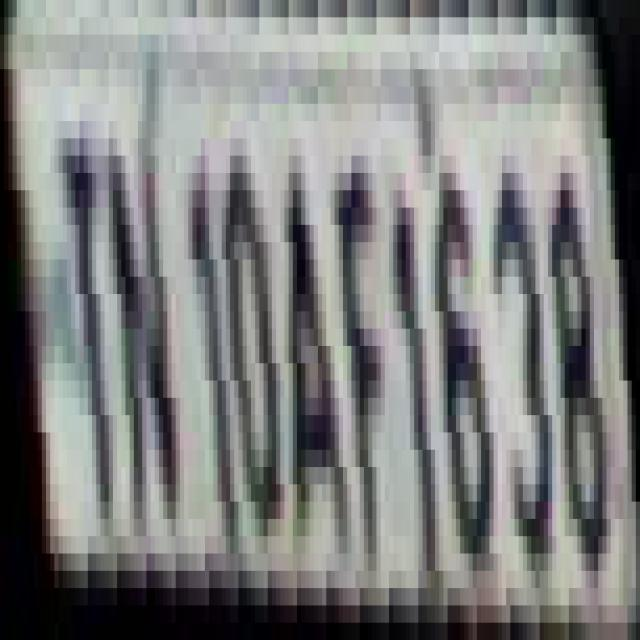license_plate: (21, 17, 640, 623)
